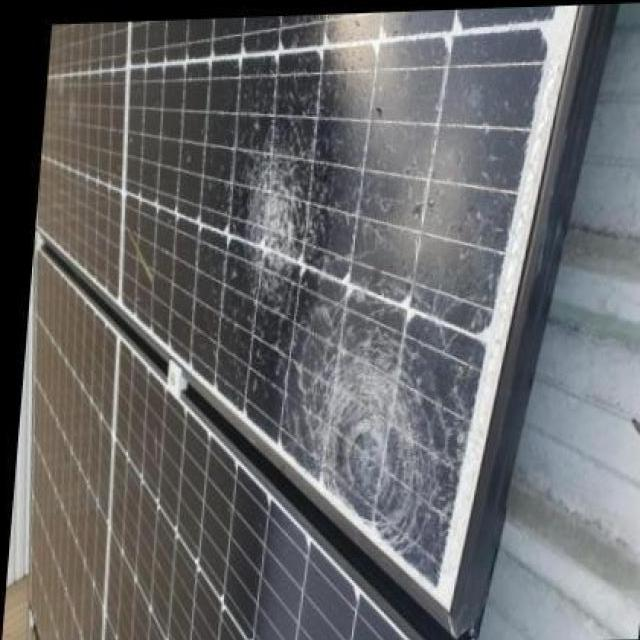cracked: (46, 22, 580, 604)
